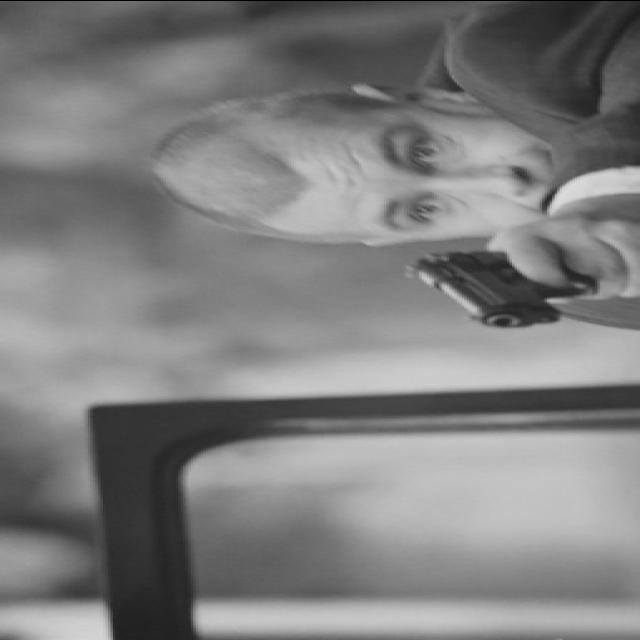weapons: (389, 241, 640, 335)
